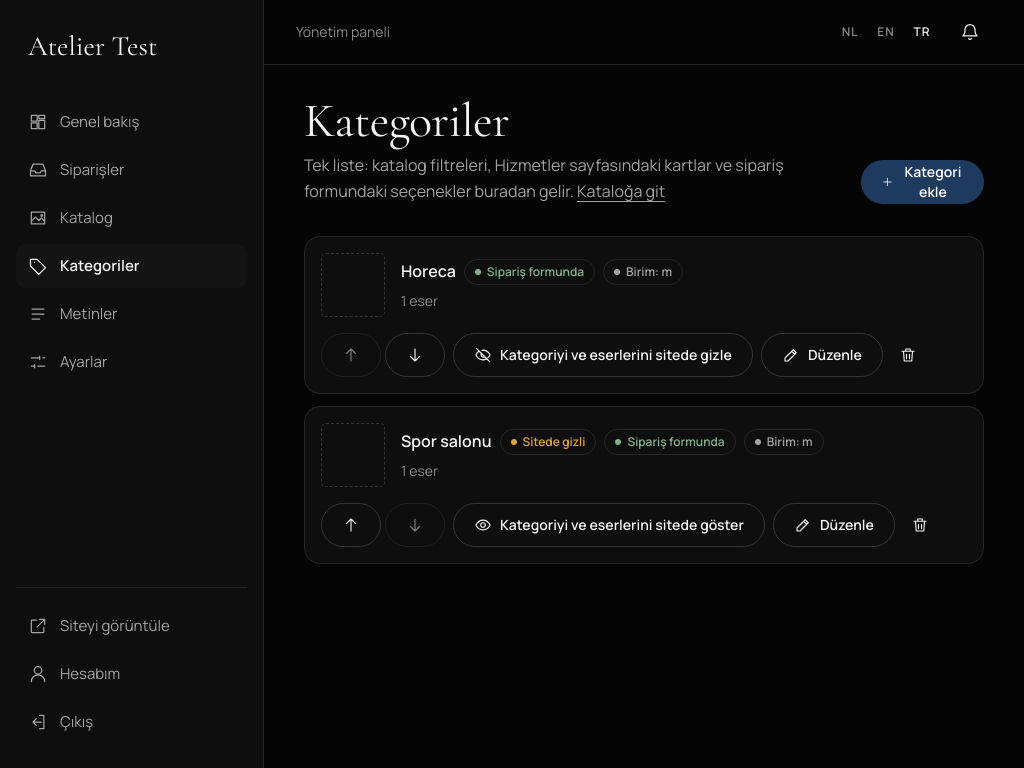
Test: categories page › hides a category together with its works, with a button that says so
Check: the text "Horeca" is shown, box [401,259,456,285]
Check: the text "Sitede gizli" is shown, box [500,429,596,455]
Click the button with aria-label "Kategoriyi ve eserlerini sitede gizle: Horeca": click(603, 355) [453,333,753,377]
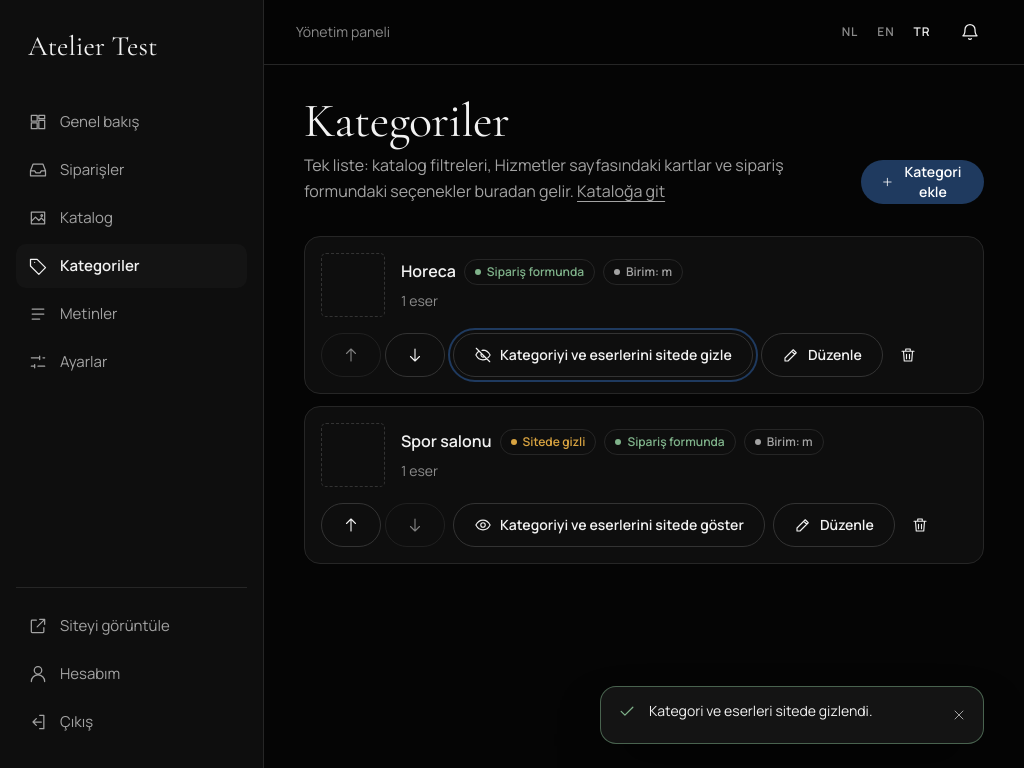
Check: the button with aria-label "Kategoriyi ve eserlerini sitede göster: Spor salonu" is shown, box [453,503,765,547]
Check: the text "Kategori ve eserleri sitede gizlendi." is shown, box [649,701,872,720]
